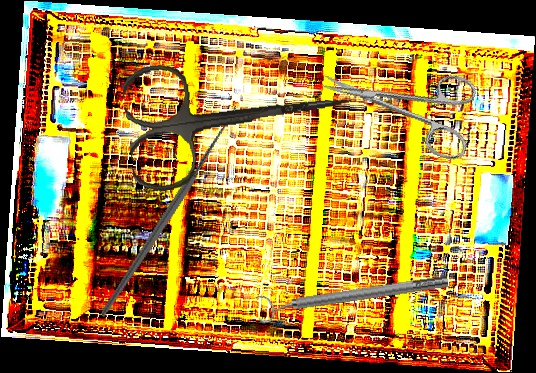Fixation Ring: (255, 266, 451, 326)
Hook Surgical: (38, 92, 295, 320)
Iris Scissors: (120, 40, 359, 195), (311, 38, 486, 164)
